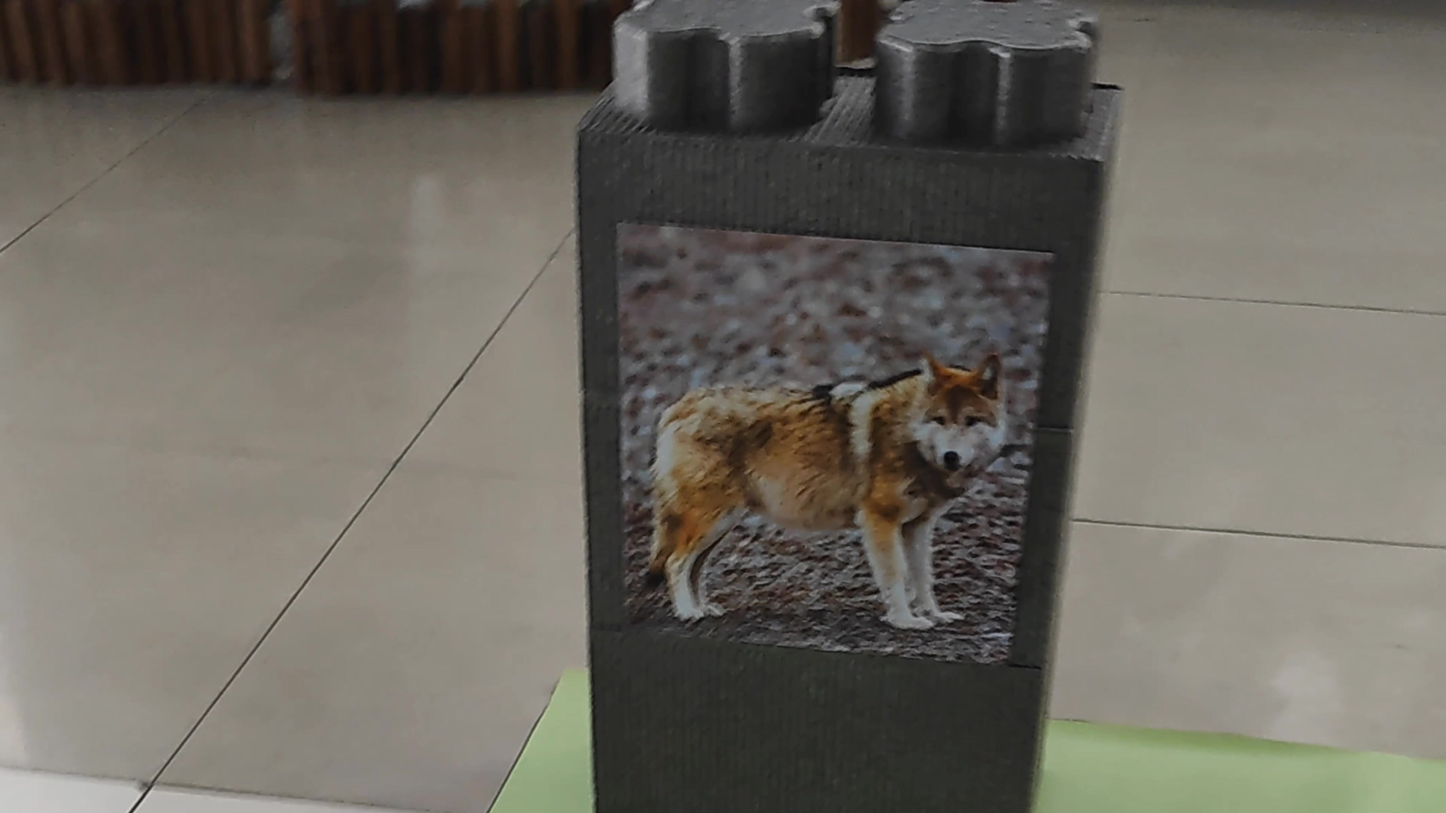wolf: (624, 331, 991, 648)
